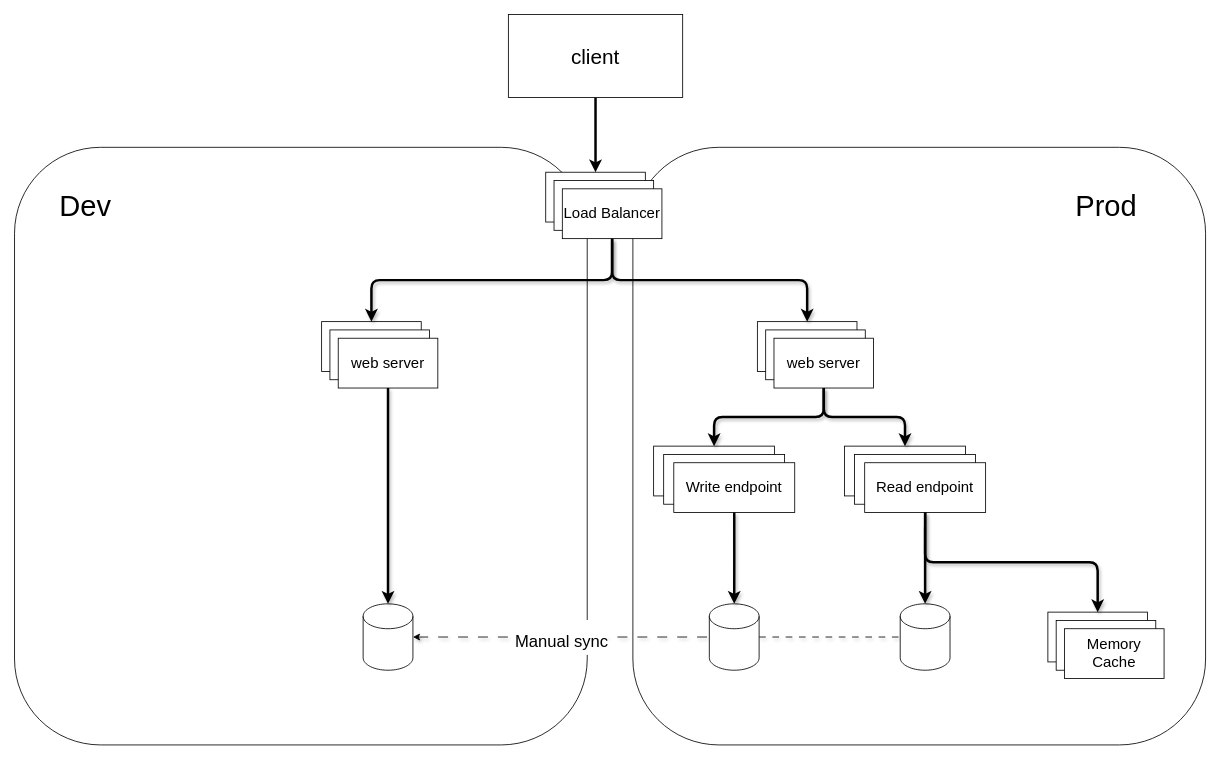
The diagram is 1220 pixels wide and 759 high, and some of its shapes have lost their labels. Here are the shapes that lost their labels. From the top down, the centre of each, then its label:
At (x=387, y=636): "W/R".
At (x=733, y=636): "Write Master".
At (x=924, y=636): "Read Replication".
